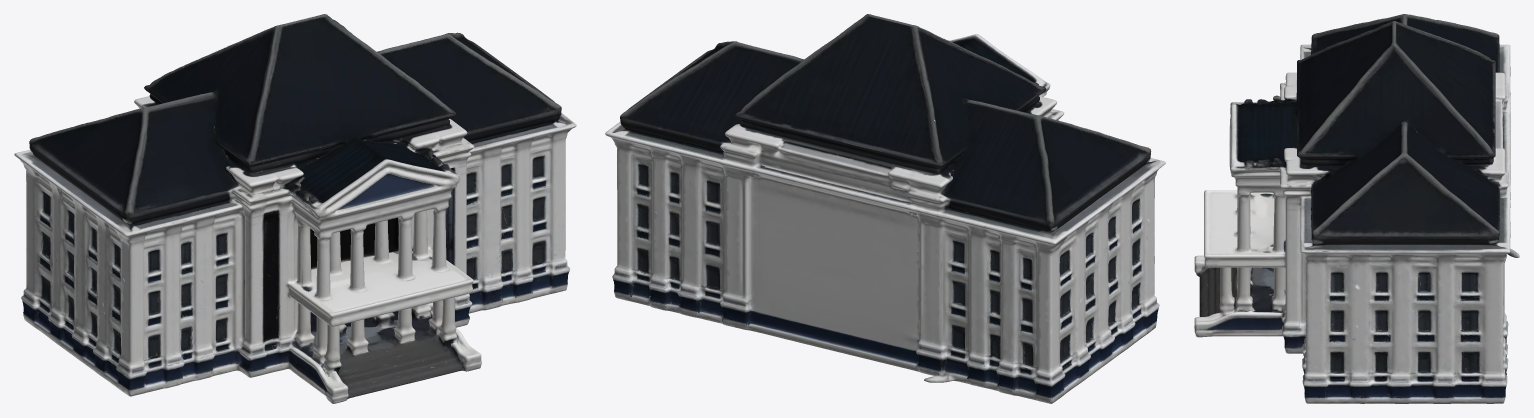
Rendered from kantor_bupati.optimized.glb.
3 renders of one model, left to right at view 1: azimuth 30°, elevation 25°; view 2: azimuth 150°, elevation 25°; view 3: azimuth 270°, elevation 25°, orthographic. The views are drawn at different scales.
Visible parts, largest first — view 1: geometry_0; view 2: geometry_0; view 3: geometry_0.
Part boxes in pixels (box(x1,y1,x2,y2)): geometry_0: box(14, 14, 576, 403); geometry_0: box(605, 14, 1165, 403); geometry_0: box(1194, 14, 1519, 403).
Bounding box in the file's own units: 1 × 0.6122 × 0.663.
Materials: 1 (1 with a texture image).
